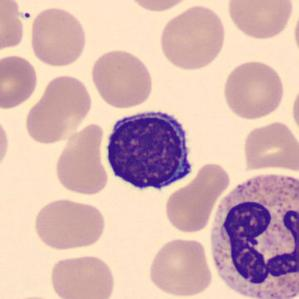Lymphocyte: (100, 105, 200, 196)
Neutrophil: (205, 167, 299, 299)
RBC: (22, 71, 95, 146), (163, 158, 231, 235), (157, 3, 227, 72), (52, 120, 110, 198), (31, 196, 107, 252), (88, 47, 155, 110), (147, 236, 215, 298), (220, 58, 286, 121), (27, 5, 89, 68), (47, 252, 117, 299), (240, 120, 298, 172), (224, 0, 296, 41), (0, 52, 40, 110), (0, 0, 27, 55), (123, 0, 196, 14), (0, 113, 12, 174), (289, 80, 299, 136), (291, 1, 299, 62), (3, 293, 70, 299)
